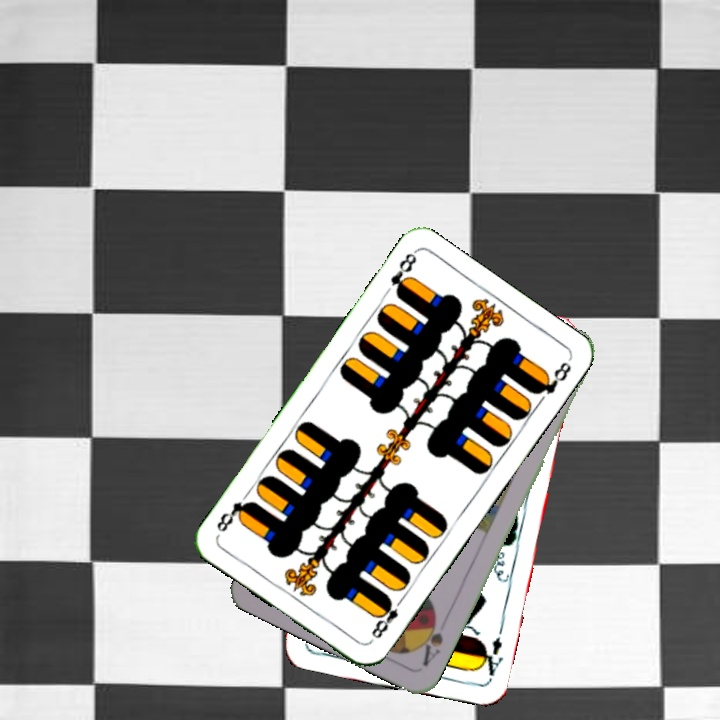E8: (367, 593, 406, 642), (386, 248, 419, 300)
EA: (475, 632, 506, 683)
SA: (415, 610, 446, 670)
